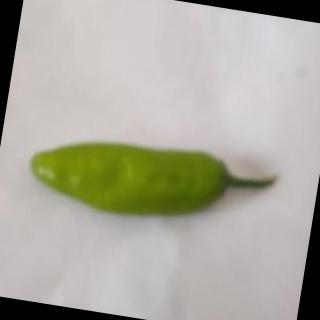Cabai Hijau: (18, 123, 286, 242)
